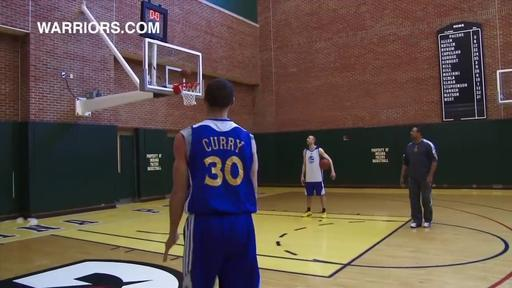ball: (179, 68, 192, 79), (319, 159, 330, 170)
human: (163, 80, 259, 288), (400, 126, 440, 228), (300, 134, 336, 218)
